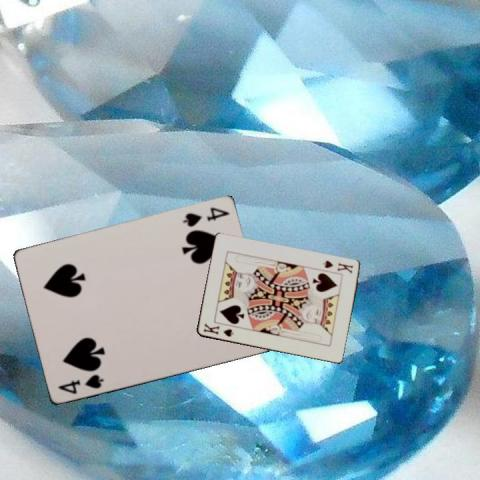4s: (179, 204, 231, 229), (55, 371, 105, 396)
Ks: (319, 257, 354, 276), (200, 320, 235, 338)
